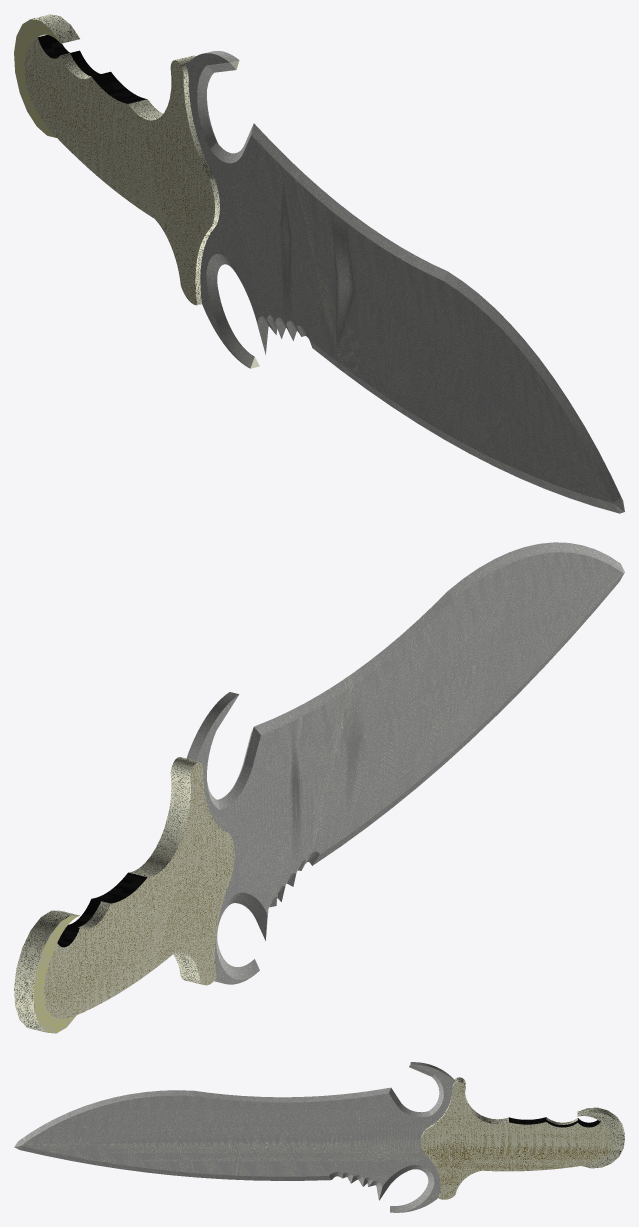
The model's file is model_align.obj.
3 views of the same model, one above another, from view 1: azimuth 30°, elevation 25°; view 2: azimuth 150°, elevation 25°; view 3: azimuth 270°, elevation 25° (orthographic). The views are drawn at different scales.
Visible parts, largest first — view 1: mesh1_mesh1-geometry; view 2: mesh1_mesh1-geometry; view 3: mesh1_mesh1-geometry.
Boxes of the visible parts, x1,y1,x2,y2 form: mesh1_mesh1-geometry: (14,14,624,513); mesh1_mesh1-geometry: (14,542,624,1033); mesh1_mesh1-geometry: (14,1062,624,1212).
Size of the model in its own units: 0.00399 by 0.0568 by 0.2121.
